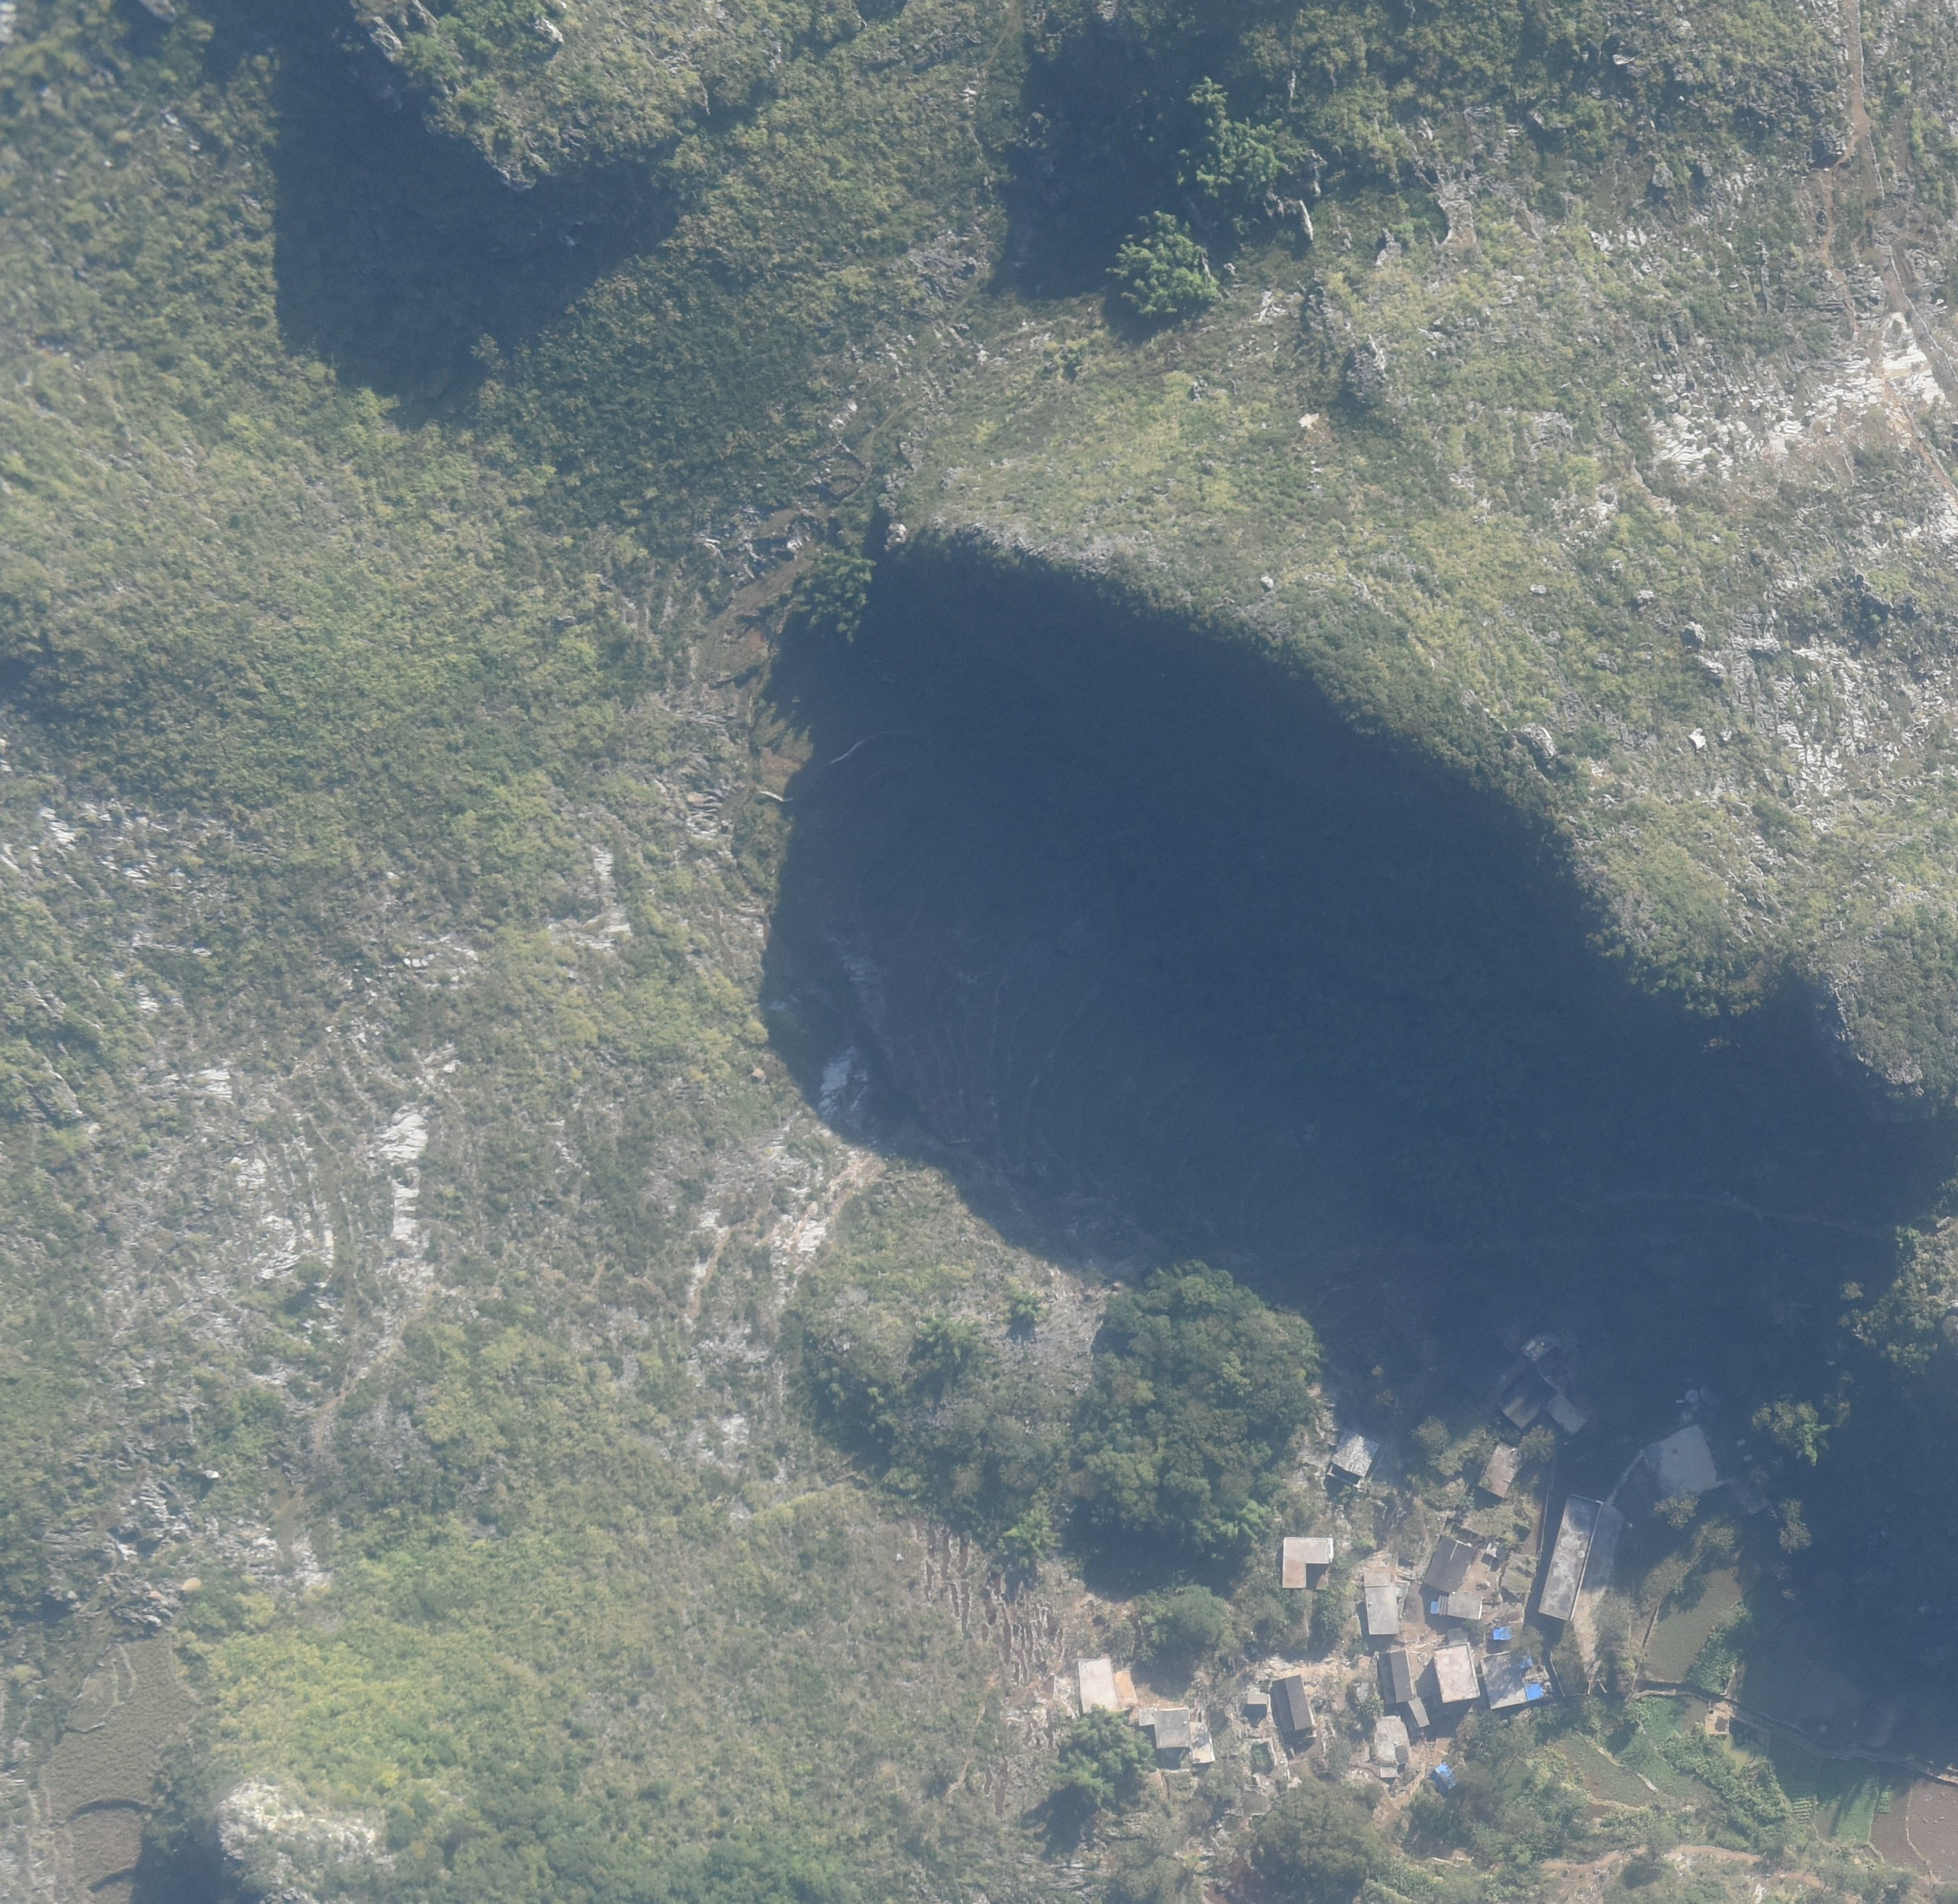building: (1537, 1495, 1604, 1622), (1645, 1423, 1718, 1501), (1138, 1706, 1217, 1764), (1521, 1327, 1581, 1391), (1079, 1658, 1138, 1714), (1326, 1429, 1380, 1490), (1481, 1648, 1527, 1710), (1424, 1534, 1471, 1593), (1477, 1441, 1525, 1498), (1500, 1376, 1549, 1431), (1270, 1675, 1313, 1735), (1283, 1537, 1332, 1589), (1363, 1570, 1400, 1633), (1374, 1715, 1408, 1778), (1378, 1650, 1413, 1701), (1545, 1391, 1586, 1435), (1430, 1591, 1483, 1619), (1409, 1697, 1431, 1728), (1705, 1712, 1730, 1736), (1246, 1693, 1269, 1709)
prefabricated-house: (1434, 1761, 1458, 1789), (1524, 1681, 1542, 1701), (1492, 1625, 1510, 1640), (1519, 1653, 1534, 1668)
well: (1700, 1380, 1726, 1405), (1354, 1682, 1378, 1706), (1684, 1389, 1699, 1404)
